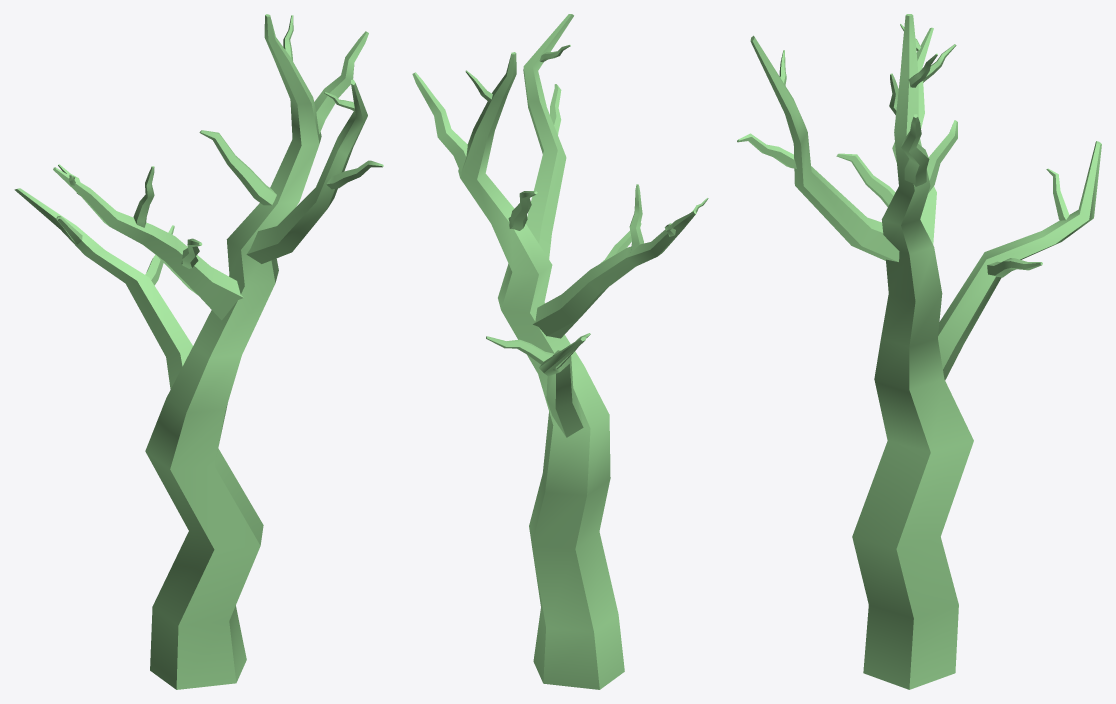
Rendered from Tree.fbx.
3 renders of one model, left to right at view 1: azimuth 30°, elevation 25°; view 2: azimuth 150°, elevation 25°; view 3: azimuth 270°, elevation 25°, orthographic. The views are drawn at different scales.
Visible parts, largest first — view 1: pCylinder77, pCylinder78, pCylinder86, pCylinder89, pCylinder84, pCylinder79, pCylinder81, pCylinder87; view 2: pCylinder77, pCylinder89, pCylinder78, pCylinder86, pCylinder79, pCylinder88, pCylinder84, pCylinder81; view 3: pCylinder77, pCylinder86, pCylinder89, pCylinder79, pCylinder78, pCylinder85, pCylinder84, pCylinder87, pCylinder88.
Part boxes in pixels (box(x1,y1,x2,y2)): pCylinder77: box(145, 14, 321, 689); pCylinder78: box(53, 167, 243, 320); pCylinder86: box(14, 188, 192, 389); pCylinder89: box(246, 79, 367, 263); pCylinder84: box(199, 130, 276, 205); pCylinder79: box(314, 31, 368, 133); pCylinder81: box(133, 166, 154, 227); pCylinder87: box(326, 160, 383, 189); pCylinder77: box(458, 52, 624, 689); pCylinder89: box(523, 14, 573, 258); pCylinder78: box(533, 211, 696, 338); pCylinder86: box(539, 337, 585, 437); pCylinder79: box(412, 72, 467, 172); pCylinder88: box(486, 336, 553, 364); pCylinder84: box(508, 191, 537, 230); pCylinder81: box(629, 184, 643, 253); pCylinder77: box(852, 14, 973, 689); pCylinder86: box(938, 141, 1101, 380); pCylinder89: box(750, 35, 899, 261); pCylinder79: box(901, 114, 929, 186); pCylinder78: box(892, 27, 936, 244); pCylinder85: box(836, 153, 895, 206); pCylinder84: box(927, 120, 957, 192); pCylinder87: box(737, 133, 796, 168); pCylinder88: box(987, 258, 1042, 277).
Bounding box in the file's own units: 2.22 × 4.4 × 2.12.
